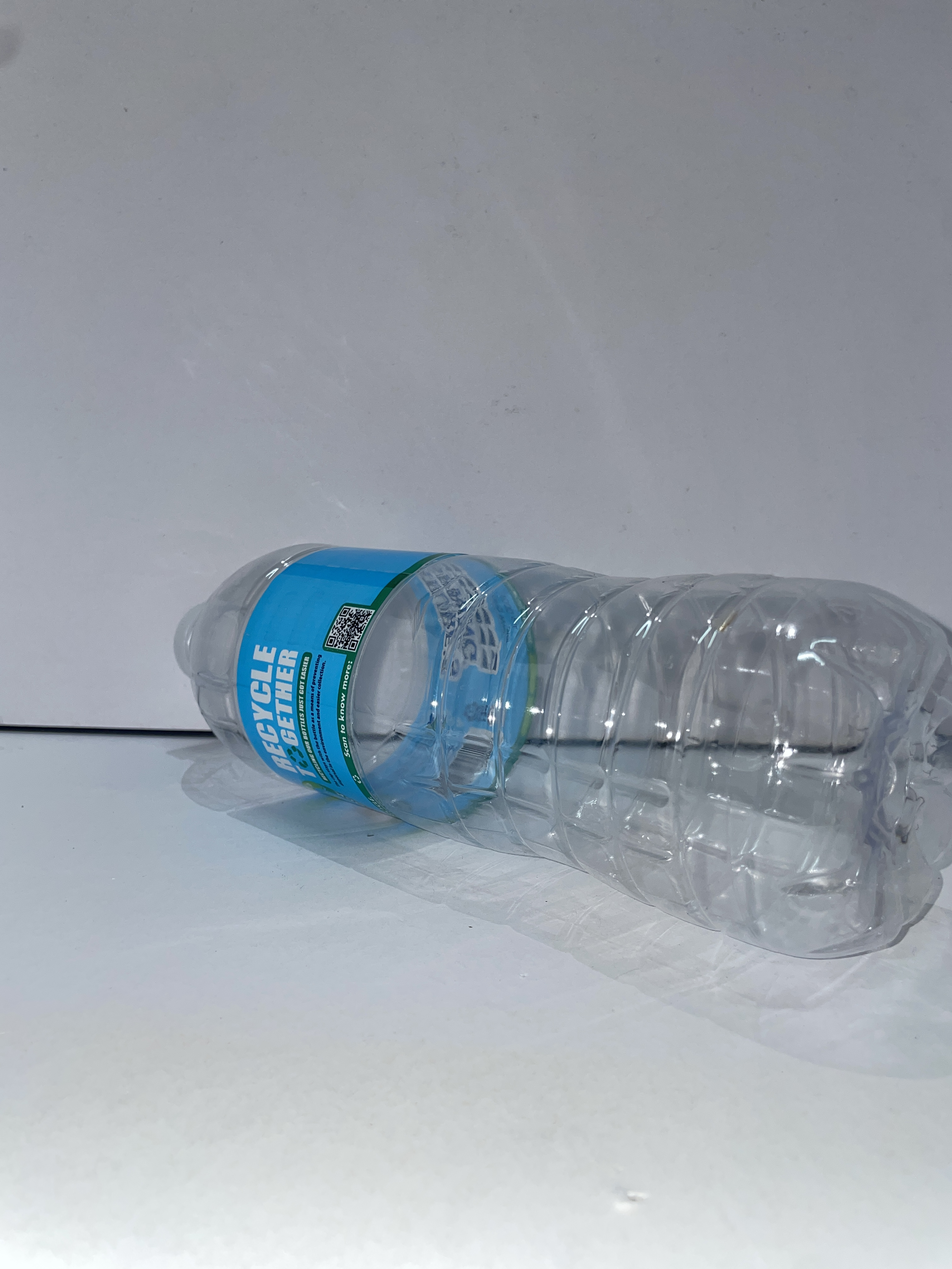Nature spring 1000ml: (174, 544, 949, 957)
